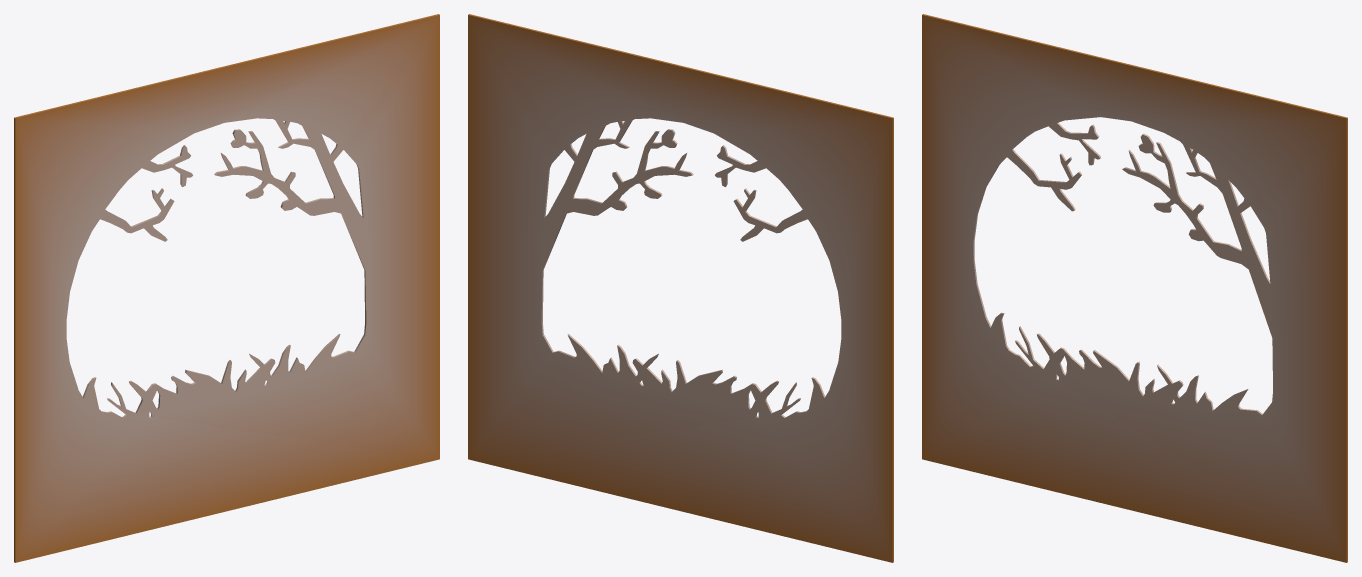
Rendered from fall_2a.fbx.
3 views of the same model, side by side, from view 1: azimuth 30°, elevation 25°; view 2: azimuth 150°, elevation 25°; view 3: azimuth 330°, elevation 25° (orthographic).
Parts seen in each view (by area): view 1: fall_2a; view 2: fall_2a; view 3: fall_2a.
Boxes of the visible parts, <box> form: fall_2a: <box>14,14,439,562</box>; fall_2a: <box>468,14,893,562</box>; fall_2a: <box>922,14,1347,562</box>.
Size of the model in its own units: 198 by 198 by 1.
